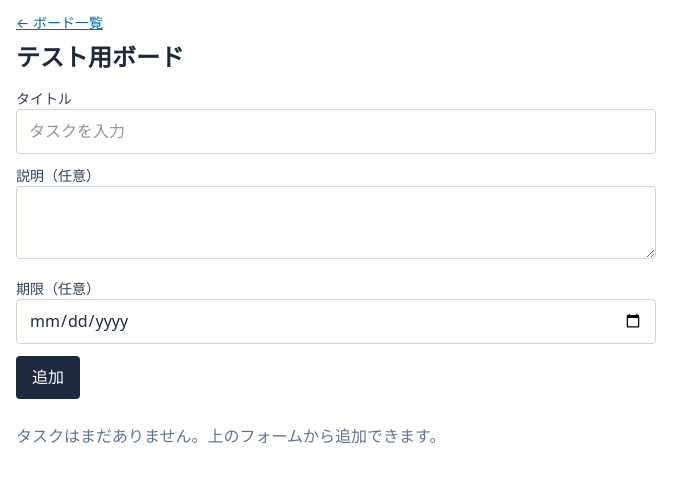
Test: 新規タスクのバリデーション › 期限が昨日なら、エラーを出して送らない
Expected: the heading "テスト用ボード" is shown, [16,40,184,73]
Expected: the button "追加" is enabled, [16,356,80,399]
Step 1. Type "過去の期限" into the field labelled "タイトル" → (336, 132), box [16,109,656,154]
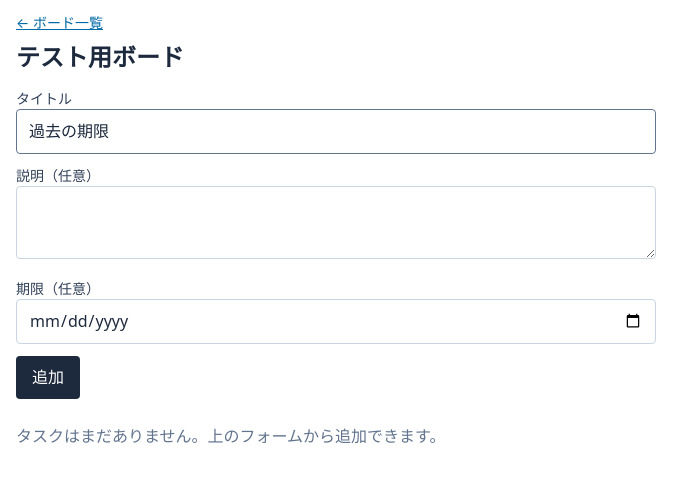
Step 2. Type "2026-11-17" into the date field labelled "期限（任意）" → (336, 321), box [16,299,656,344]
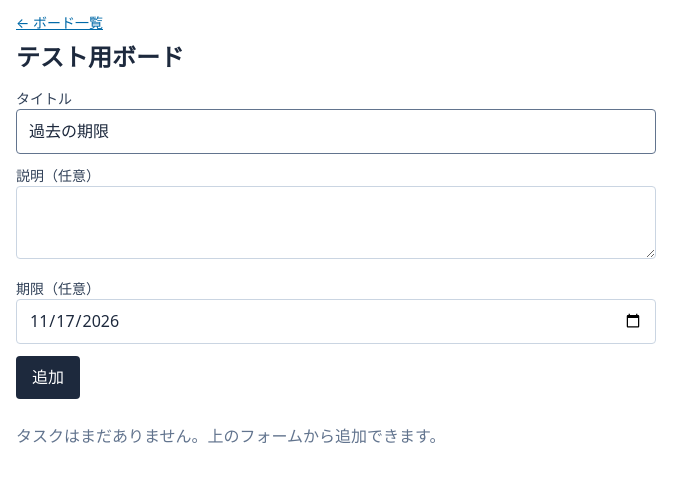
Step 3. Click the button "追加" → (48, 378), box [16,356,80,399]
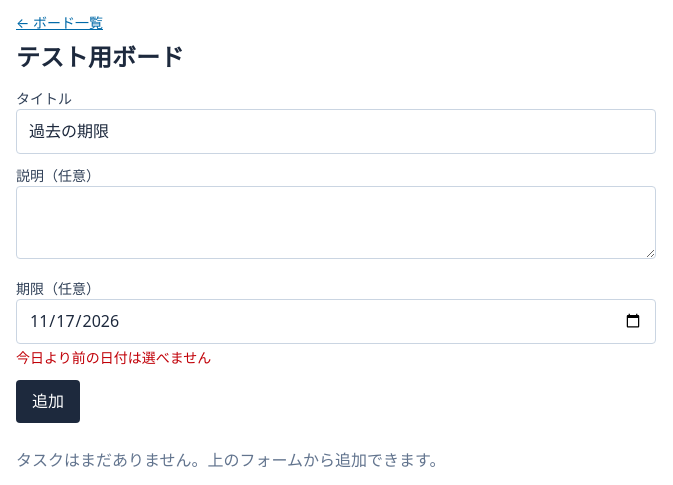
Now the text "今日より前の日付は選べません" is shown, box [16,348,211,367]
